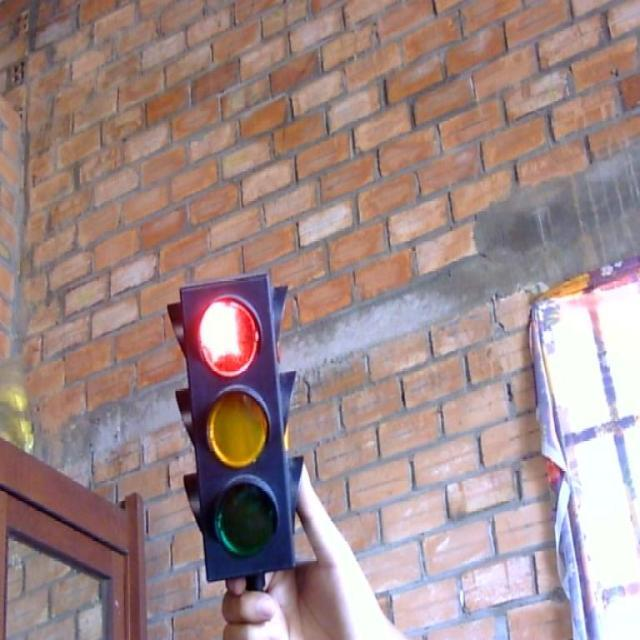red light: (183, 284, 279, 380)
